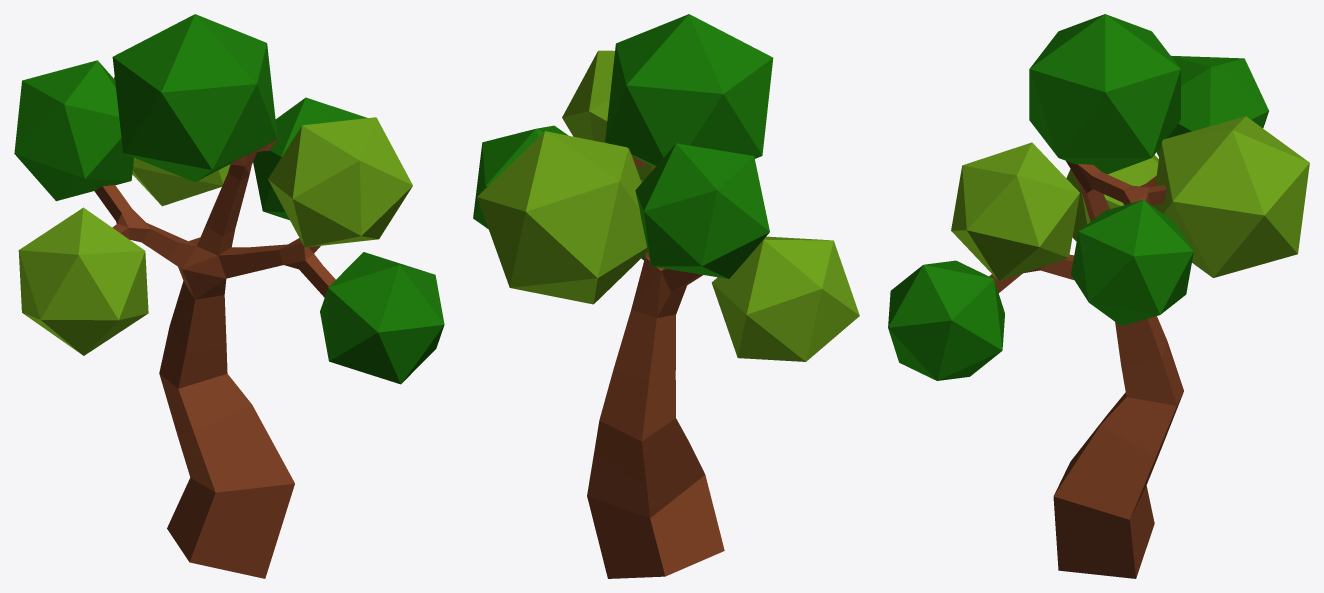
File: AlexasTree.fbx
3 views of the same model, side by side, from view 1: azimuth 30°, elevation 25°; view 2: azimuth 150°, elevation 25°; view 3: azimuth 270°, elevation 25° (orthographic). The views are drawn at different scales.
Parts seen in each view (by area): view 1: Cube, Icosphere.004, Icosphere.001, Icosphere.002, Icosphere.003, Icosphere, Icosphere.006, Icosphere.005; view 2: Cube, Icosphere.005, Icosphere.004, Icosphere.003, Icosphere.002, Icosphere.001, Icosphere.006; view 3: Cube, Icosphere.004, Icosphere.005, Icosphere.001, Icosphere, Icosphere.006, Icosphere.003, Icosphere.002.
Part boxes in pixels (x1,y1,x2,y2): Cube: [94, 137, 335, 578]; Icosphere.004: [112, 14, 277, 181]; Icosphere.001: [268, 117, 412, 247]; Icosphere.002: [18, 207, 148, 355]; Icosphere.003: [14, 60, 133, 201]; Icosphere: [320, 252, 444, 384]; Icosphere.006: [253, 97, 367, 220]; Icosphere.005: [114, 77, 230, 206]; Cube: [587, 156, 724, 578]; Icosphere.005: [477, 131, 647, 304]; Icosphere.004: [605, 14, 773, 167]; Icosphere.003: [635, 143, 769, 278]; Icosphere.002: [711, 236, 859, 361]; Icosphere.001: [562, 50, 651, 180]; Icosphere.006: [473, 125, 568, 228]; Cube: [989, 161, 1183, 578]; Icosphere.004: [1029, 14, 1180, 174]; Icosphere.005: [1152, 116, 1309, 277]; Icosphere.001: [951, 142, 1079, 280]; Icosphere: [888, 260, 1004, 380]; Icosphere.006: [1071, 199, 1193, 326]; Icosphere.003: [1156, 55, 1268, 156]; Icosphere.002: [1066, 154, 1158, 241].
Bounding box in the file's own units: 376 × 574 × 410.
